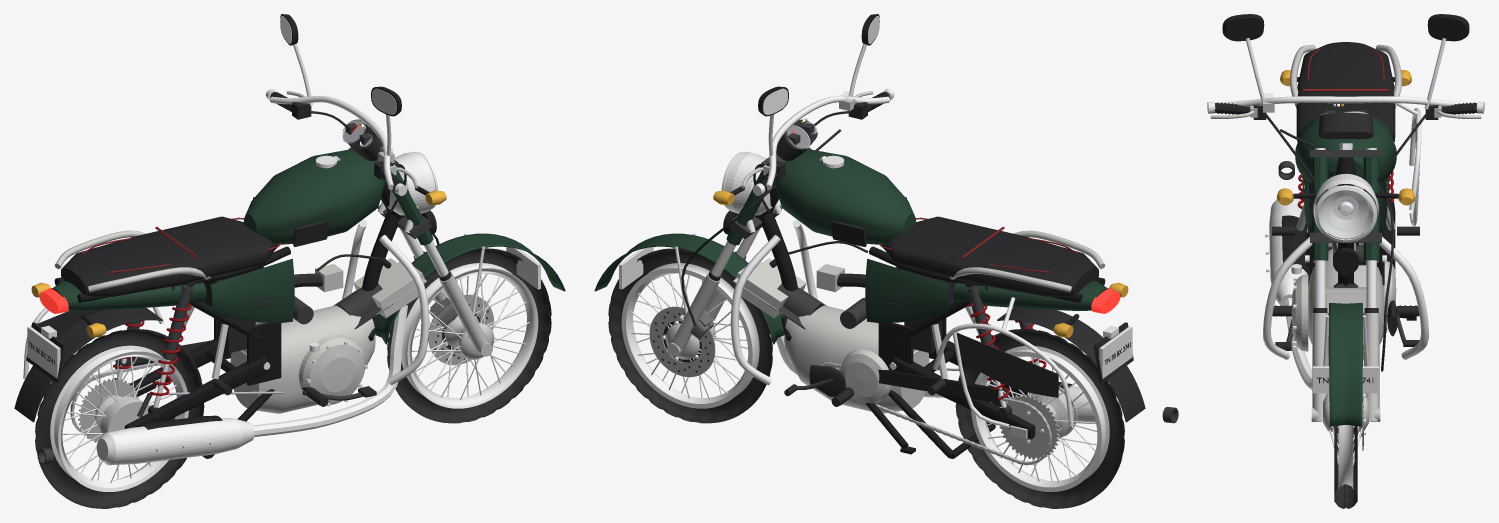
The model's file is moto_classic.glb.
3 views of the same model, side by side, from view 1: azimuth 30°, elevation 25°; view 2: azimuth 150°, elevation 25°; view 3: azimuth 270°, elevation 25° (orthographic). The views are drawn at different scales.
Visible parts, largest first — view 1: Body, Handlebar, WR_Wheel, WF_Wheel, Brightwork, Details, Engine, Blackwork, Frame; view 2: Body, WR_Wheel, Handlebar, Blackwork, WF_Wheel, Details, Engine, Brightwork, Frame; view 3: Handlebar, Details, Brightwork, Engine, Body, WF_Wheel, Blackwork, Frame, Grip.
Boxes of the visible parts, x1,y1,x2,y2 form: Body: [52, 149, 385, 322]; Handlebar: [270, 14, 565, 356]; WR_Wheel: [35, 329, 204, 508]; WF_Wheel: [387, 248, 551, 423]; Brightwork: [23, 155, 429, 465]; Details: [27, 216, 376, 436]; Engine: [105, 258, 426, 432]; Blackwork: [14, 197, 391, 464]; Frame: [54, 182, 405, 428]; Body: [774, 149, 1107, 322]; WR_Wheel: [955, 329, 1124, 508]; Handlebar: [594, 14, 889, 356]; Blackwork: [769, 197, 1178, 458]; WF_Wheel: [608, 248, 772, 423]; Details: [784, 216, 1132, 465]; Engine: [733, 258, 1077, 436]; Brightwork: [730, 155, 1118, 428]; Frame: [754, 182, 1105, 439]; Handlebar: [1210, 14, 1481, 426]; Details: [1272, 42, 1419, 350]; Brightwork: [1263, 44, 1428, 389]; Engine: [1291, 243, 1396, 359]; Body: [1295, 111, 1396, 233]; WF_Wheel: [1323, 393, 1368, 508]; Blackwork: [1278, 119, 1416, 343]; Frame: [1296, 157, 1395, 315]; Grip: [1207, 101, 1484, 114].
Size of the model in its own units: 2 by 1.4 by 0.8448.
